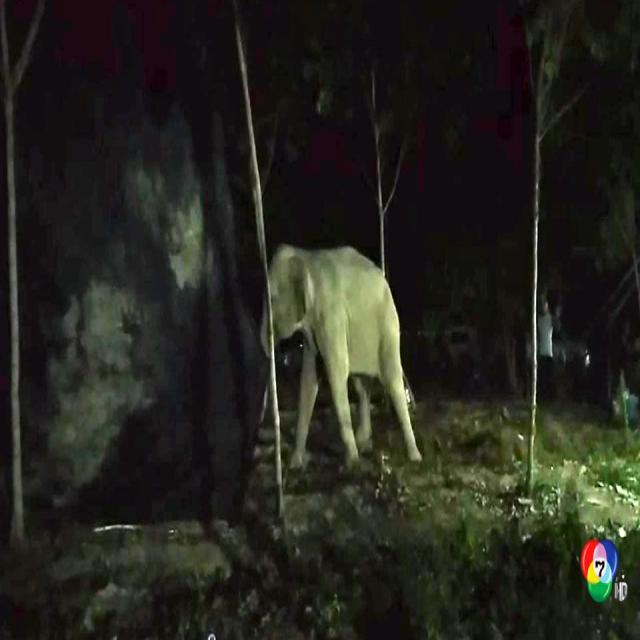Elephant: (246, 234, 431, 491)
